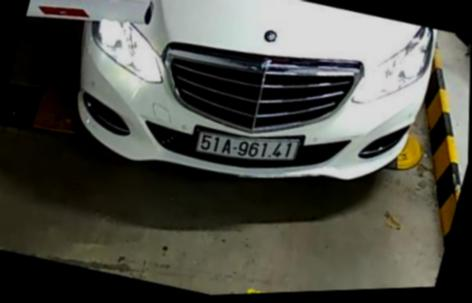License_Plate: (189, 120, 303, 172)
